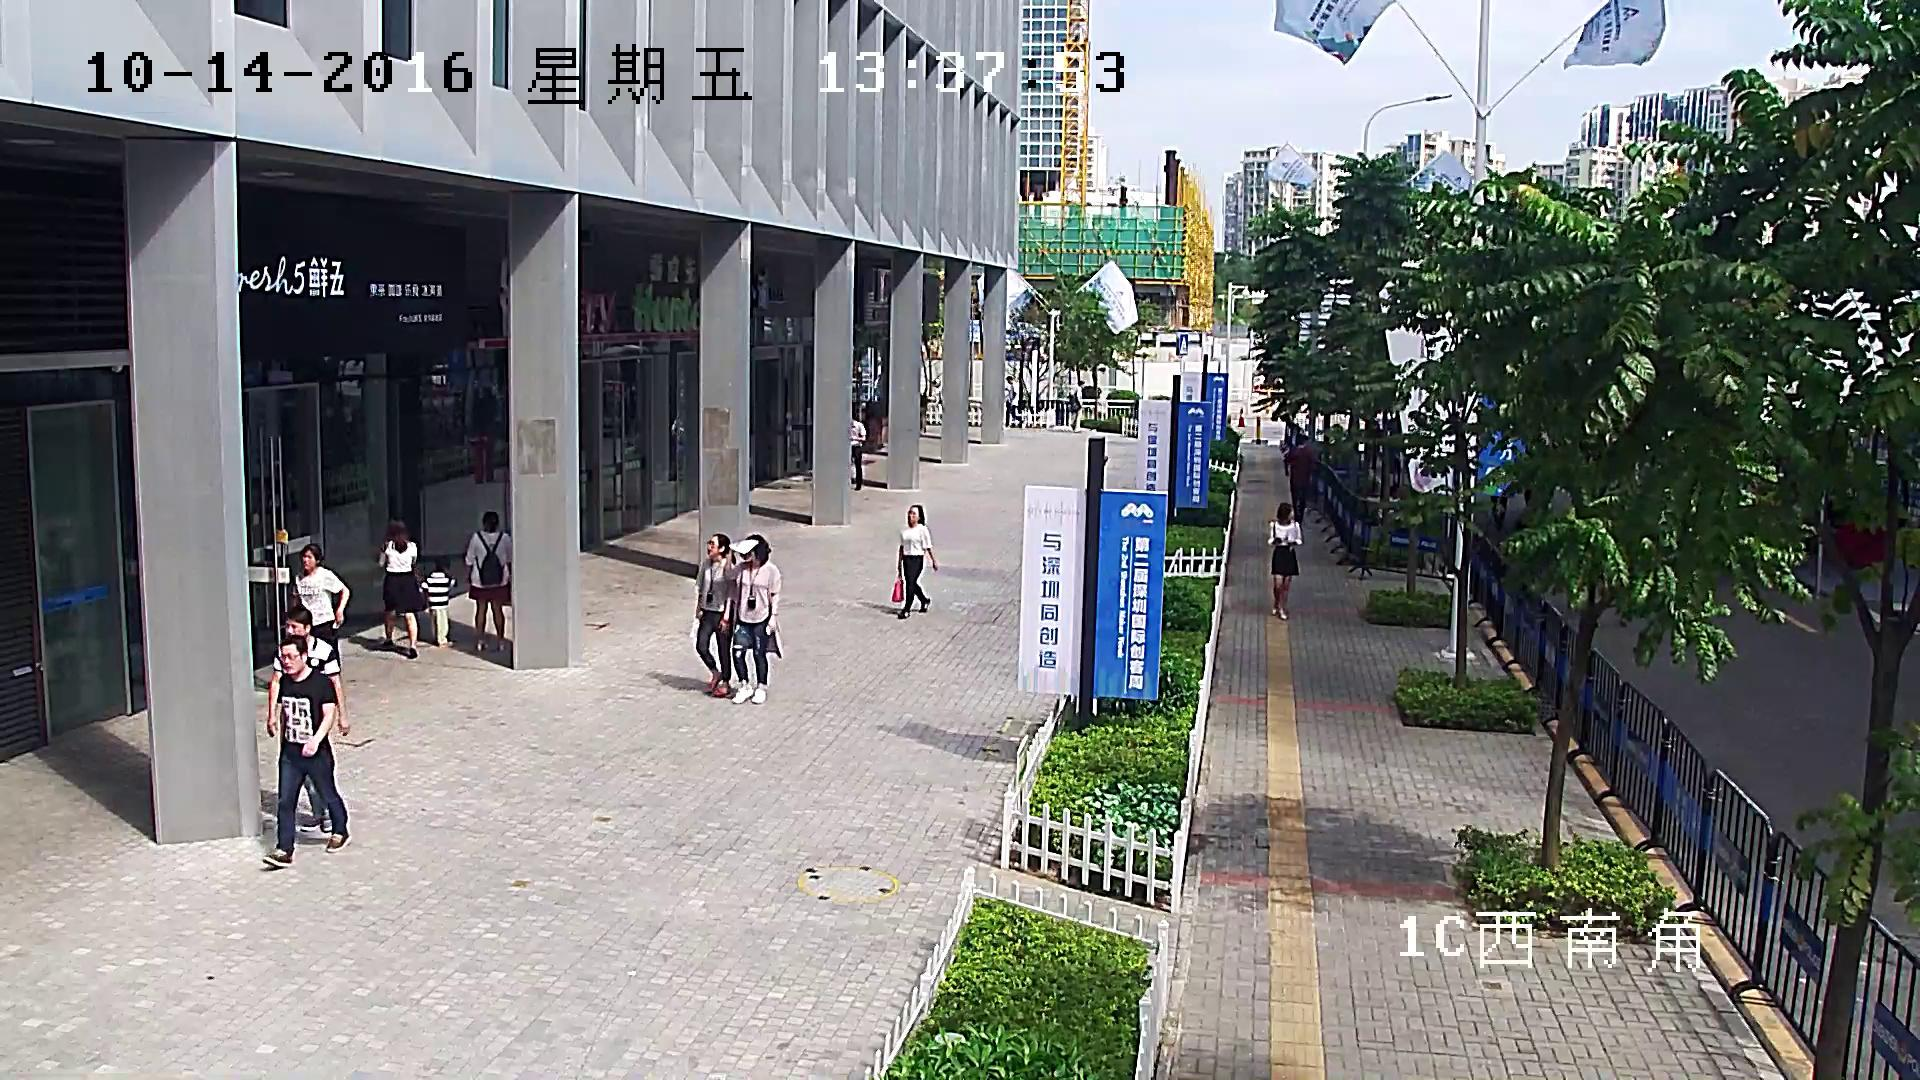person: (261, 634, 352, 867), (265, 605, 349, 832), (723, 534, 783, 704), (293, 543, 348, 666), (376, 519, 425, 657), (696, 533, 737, 696), (464, 511, 512, 651), (891, 504, 937, 618), (1266, 503, 1303, 619), (418, 555, 456, 647), (1283, 434, 1315, 521), (850, 418, 866, 490), (1004, 376, 1023, 428), (1071, 380, 1085, 432)
